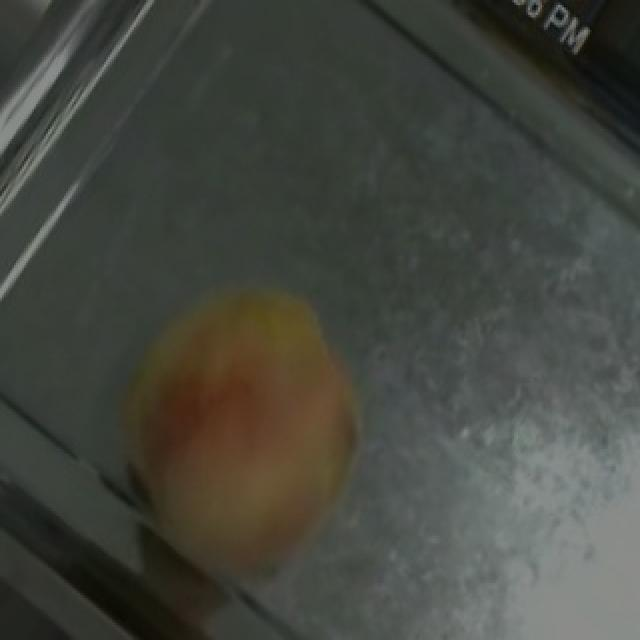Fruit: (74, 238, 412, 618)
